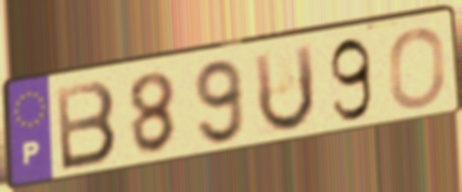8: (126, 70, 180, 158)
9: (191, 56, 245, 147), (327, 35, 375, 124)
B: (53, 78, 120, 175)
O: (387, 25, 449, 112)
U: (251, 40, 318, 137)
